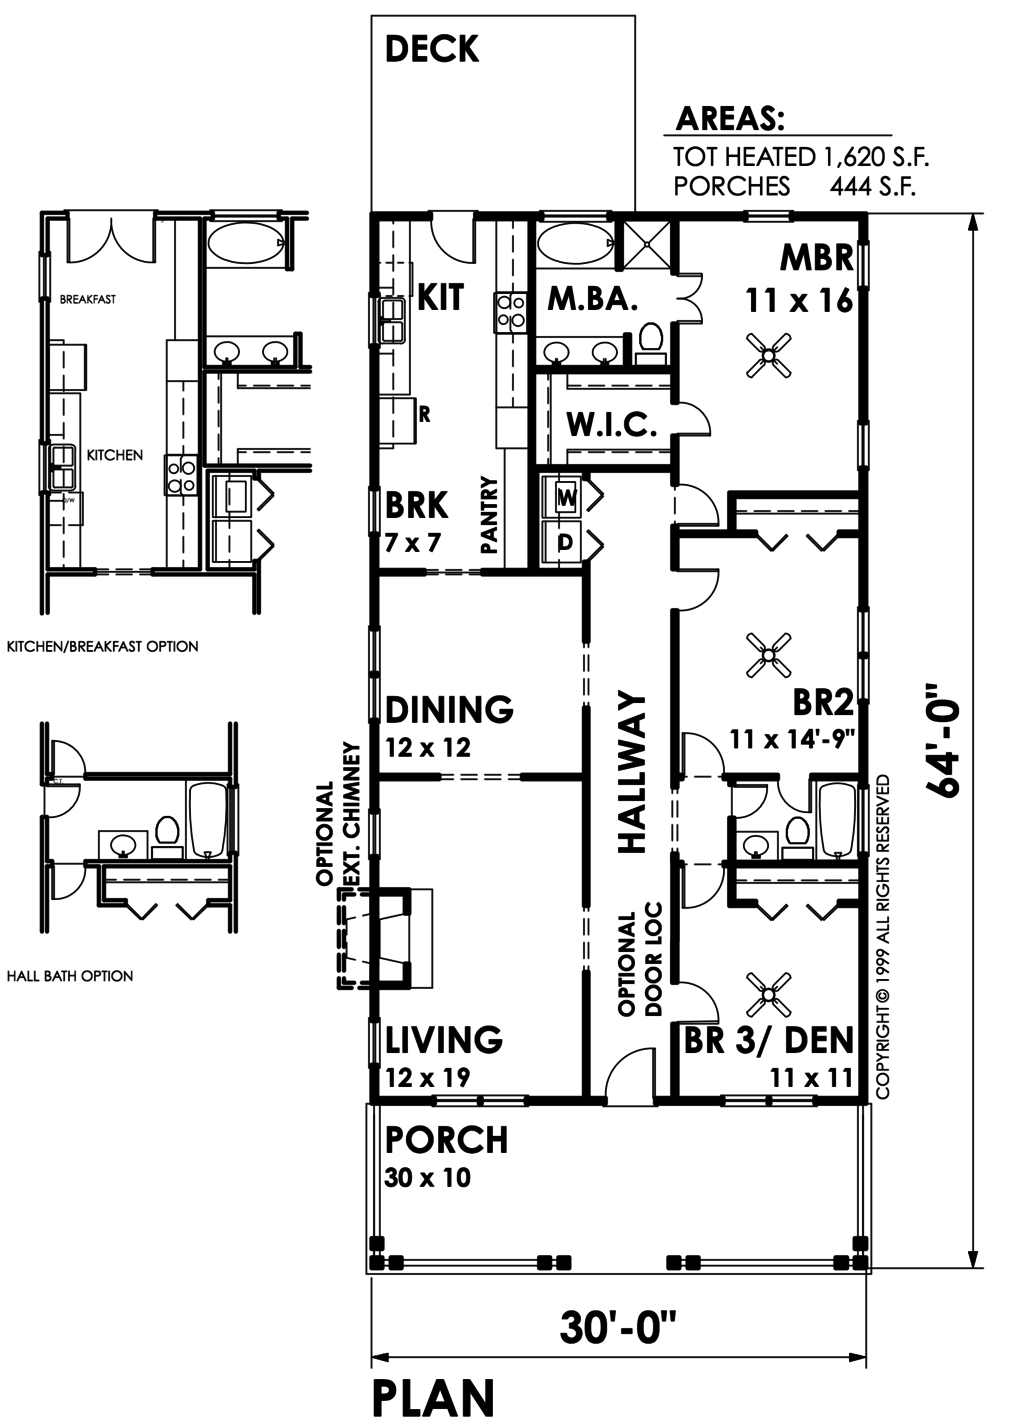door: (54, 201, 165, 271), (601, 1045, 669, 1116), (663, 716, 727, 782), (674, 862, 736, 924), (427, 207, 480, 276), (658, 973, 716, 1033), (665, 558, 723, 616), (663, 476, 712, 533), (665, 267, 701, 331), (43, 738, 92, 785), (778, 773, 823, 821), (52, 860, 96, 907), (672, 397, 716, 442), (732, 776, 776, 820)
large_sink: (634, 304, 672, 382), (154, 809, 192, 871), (778, 816, 816, 867)
small_sink: (527, 333, 637, 373), (201, 329, 301, 369), (96, 820, 163, 862), (732, 831, 789, 865)
tub: (518, 211, 616, 276), (205, 218, 306, 269), (185, 778, 241, 860), (809, 781, 861, 860)
twin_sink: (354, 287, 436, 358), (25, 442, 99, 500)
window: (358, 626, 394, 740), (854, 604, 887, 719), (436, 1089, 541, 1122), (847, 245, 892, 313), (734, 196, 801, 231), (856, 409, 883, 490), (721, 1091, 823, 1113), (358, 805, 394, 856)
